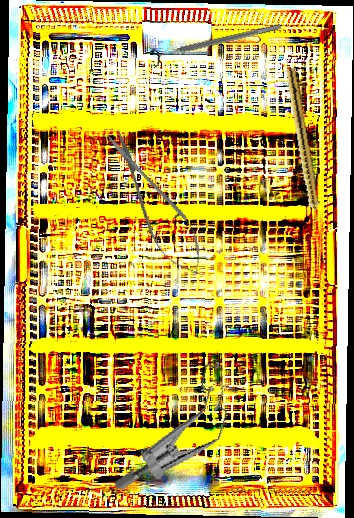Fixation Ring: (148, 16, 284, 69)
Handpiece: (282, 67, 324, 229)
Micro Scissor: (94, 121, 216, 285)
Speculum: (110, 342, 247, 515)
